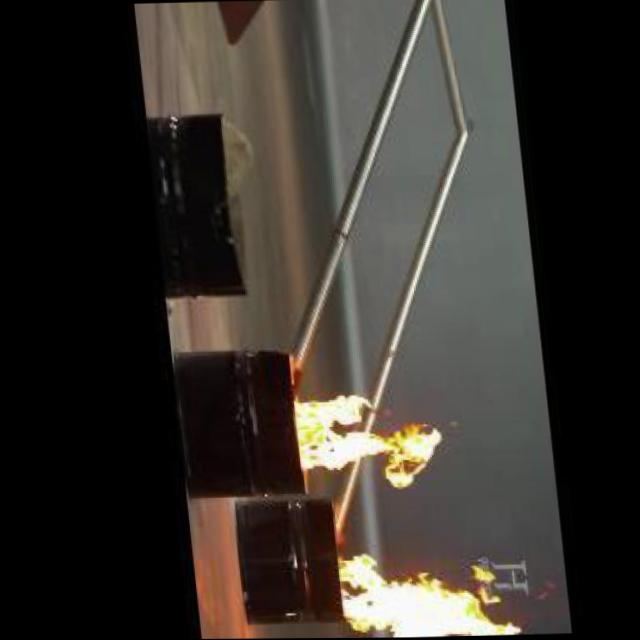Fire: (304, 522, 510, 638), (284, 374, 444, 487)
